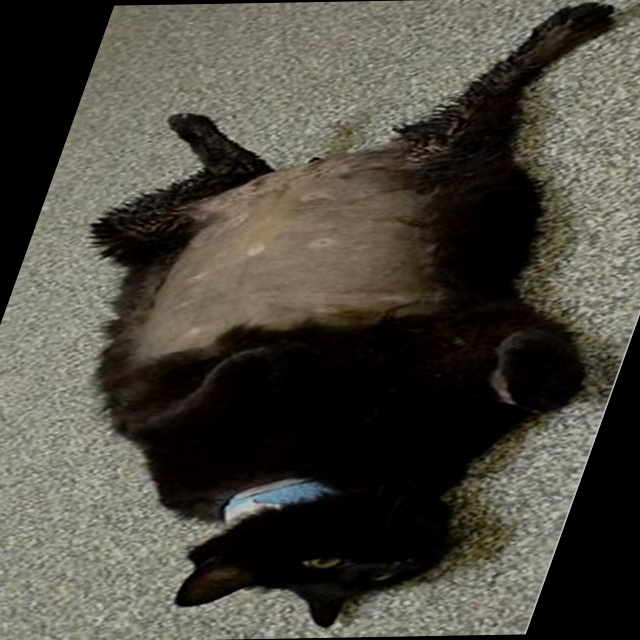hairloss: (135, 155, 431, 360)
